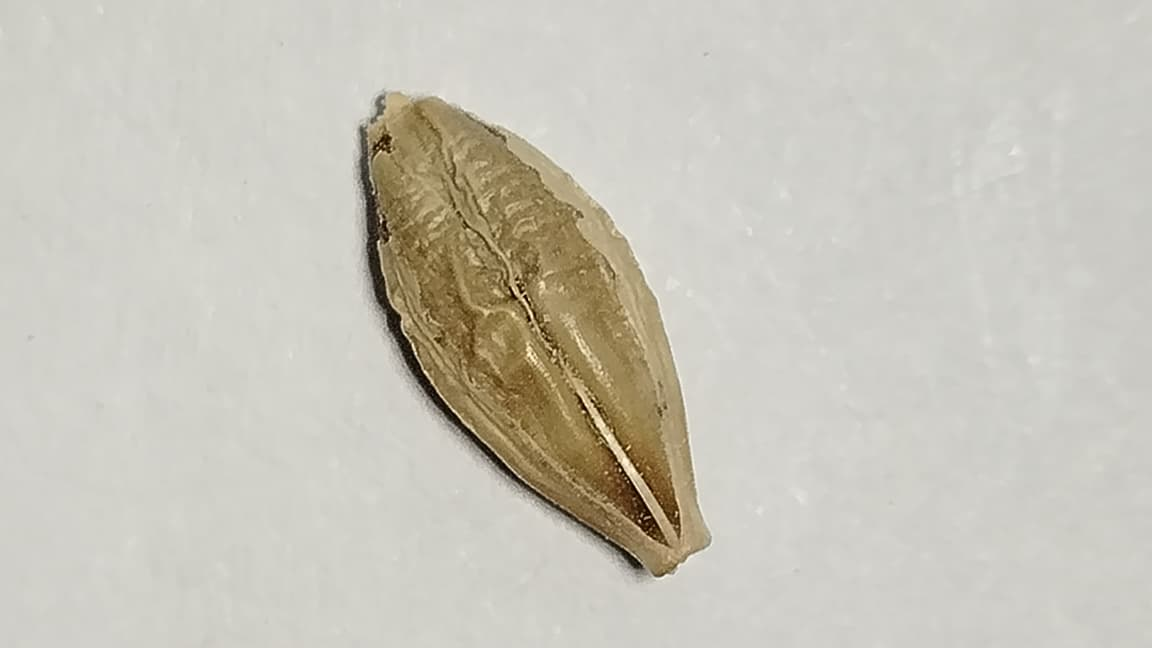insectdamage: (359, 125, 393, 170), (359, 214, 404, 241)
shriveledseed: (367, 95, 709, 575), (409, 180, 577, 403)
staindamage: (622, 459, 709, 555)
